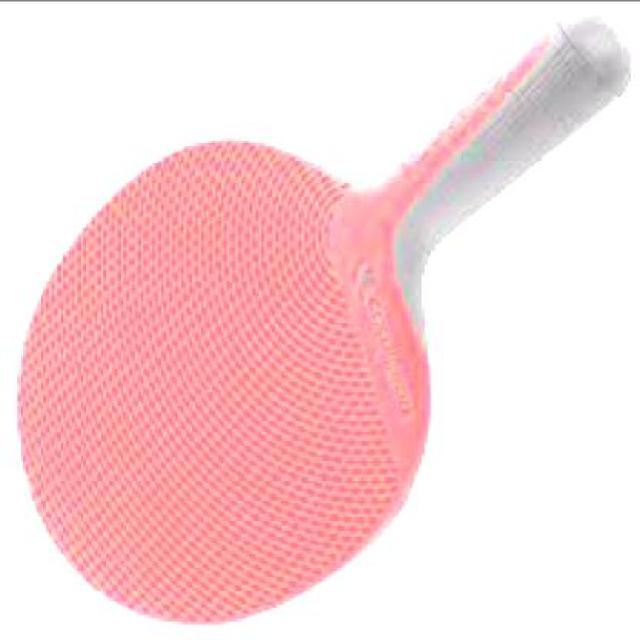table_tennis_racket: (12, 22, 623, 628)
